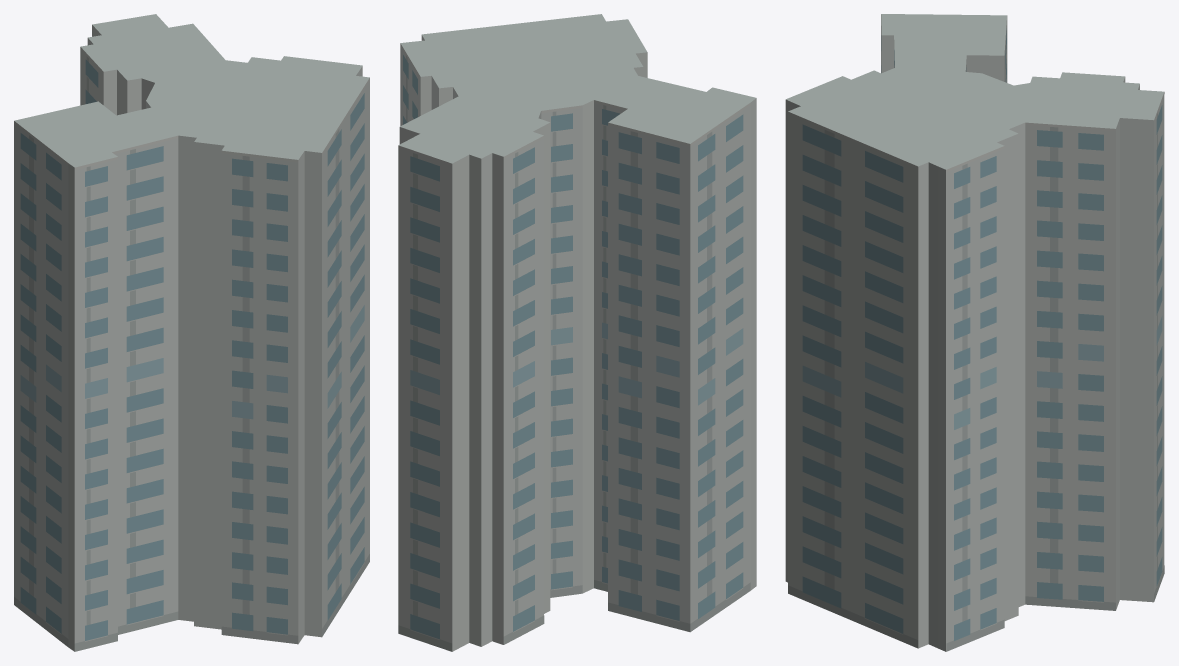
File: residential-027fa209-edb9-4e21-a979-cb6290f2df13.glb
3 renders of one model, left to right at view 1: azimuth 30°, elevation 25°; view 2: azimuth 150°, elevation 25°; view 3: azimuth 270°, elevation 25°, orthographic.
Parts seen in each view (by area): view 1: residential-027fa209-edb9-4e21-a979-cb6290f2df13.tmp; view 2: residential-027fa209-edb9-4e21-a979-cb6290f2df13.tmp; view 3: residential-027fa209-edb9-4e21-a979-cb6290f2df13.tmp.
Part boxes in pixels (<box>): residential-027fa209-edb9-4e21-a979-cb6290f2df13.tmp: <box>14,14,369,651</box>; residential-027fa209-edb9-4e21-a979-cb6290f2df13.tmp: <box>398,14,756,651</box>; residential-027fa209-edb9-4e21-a979-cb6290f2df13.tmp: <box>785,14,1164,651</box>.
Size of the model in its own units: 31.9 by 46 by 32.78.
